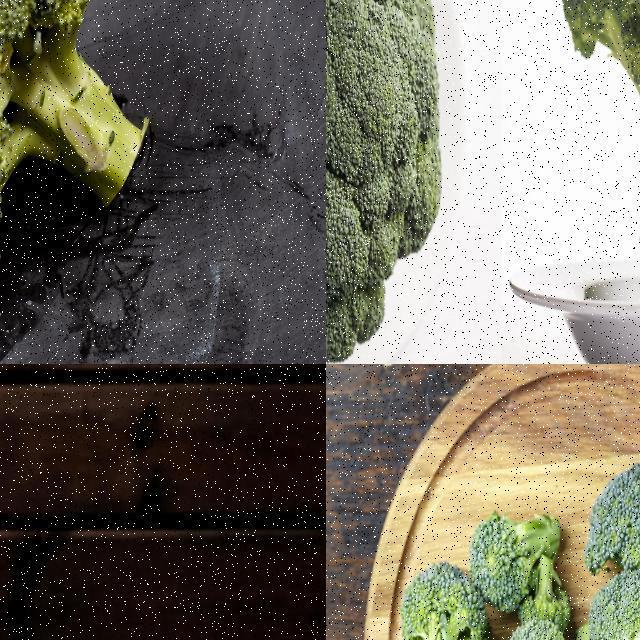broccoli: (0, 0, 159, 290), (326, 0, 448, 363), (557, 0, 639, 350), (577, 458, 639, 602), (472, 507, 564, 604), (394, 560, 494, 639), (590, 572, 639, 639)
